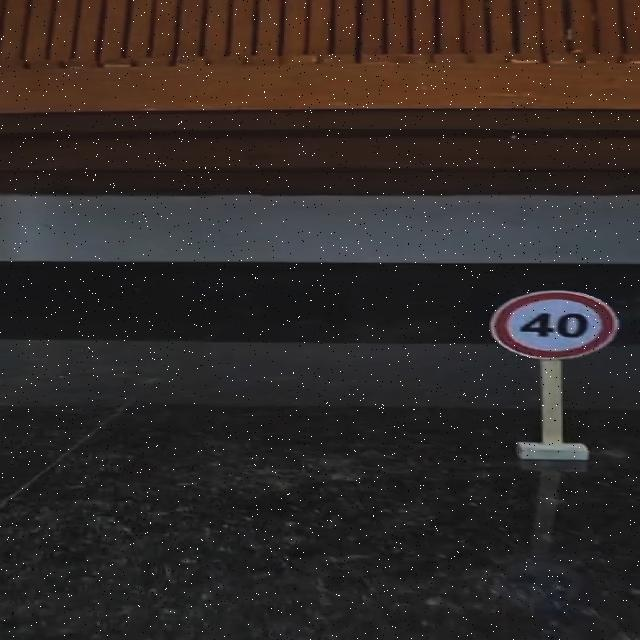Speed40: (486, 286, 624, 362)
